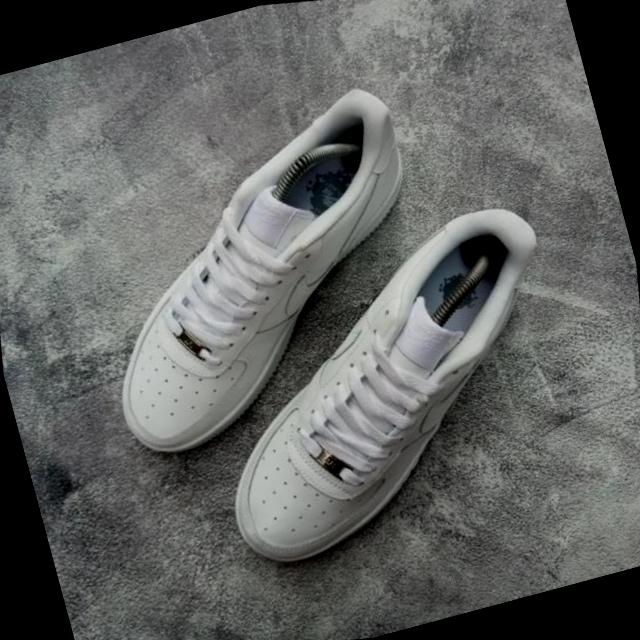nike_fake_airforce: (142, 142, 631, 631), (35, 33, 495, 509)
